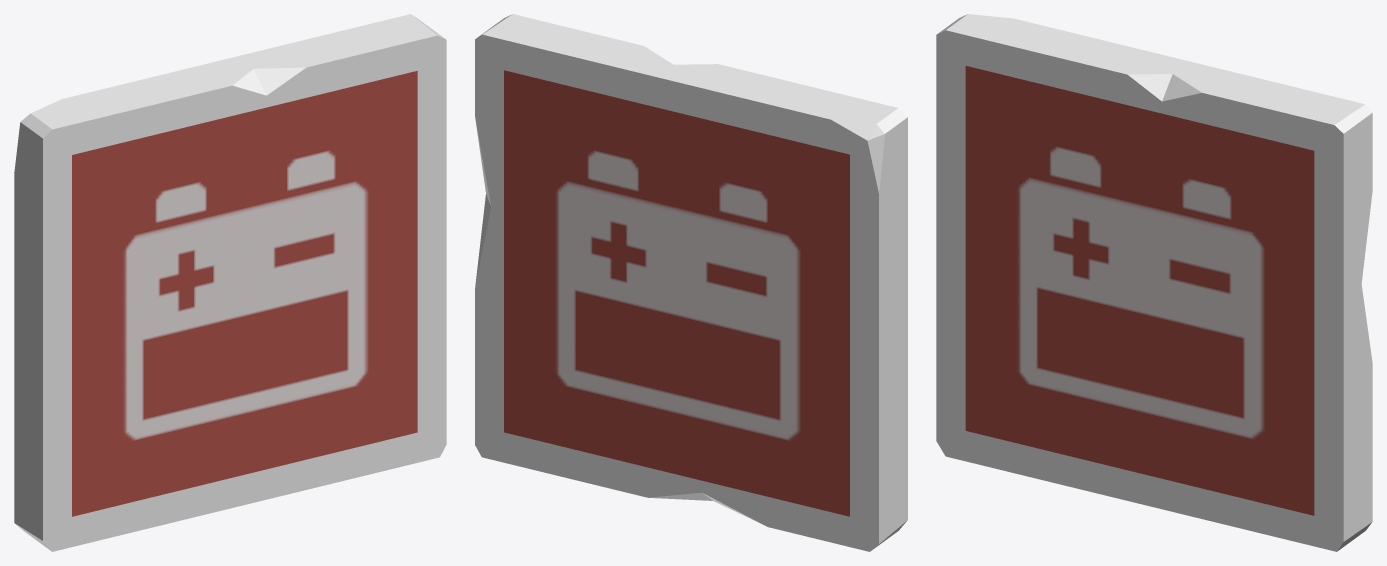
The model's file is SM_SignBorder_Battery_01.fbx.
3 views of the same model, side by side, from view 1: azimuth 30°, elevation 25°; view 2: azimuth 150°, elevation 25°; view 3: azimuth 330°, elevation 25° (orthographic).
Parts seen in each view (by area): view 1: SM_SignBorder_Battery_01; view 2: SM_SignBorder_Battery_01; view 3: SM_SignBorder_Battery_01.
Boxes of the visible parts, x1,y1,x2,y2 form: SM_SignBorder_Battery_01: (14,14,446,551); SM_SignBorder_Battery_01: (475,14,907,551); SM_SignBorder_Battery_01: (936,14,1372,551).
Bounding box in the file's own units: 117 × 117 × 14.42.
1 material, 1 textured.
